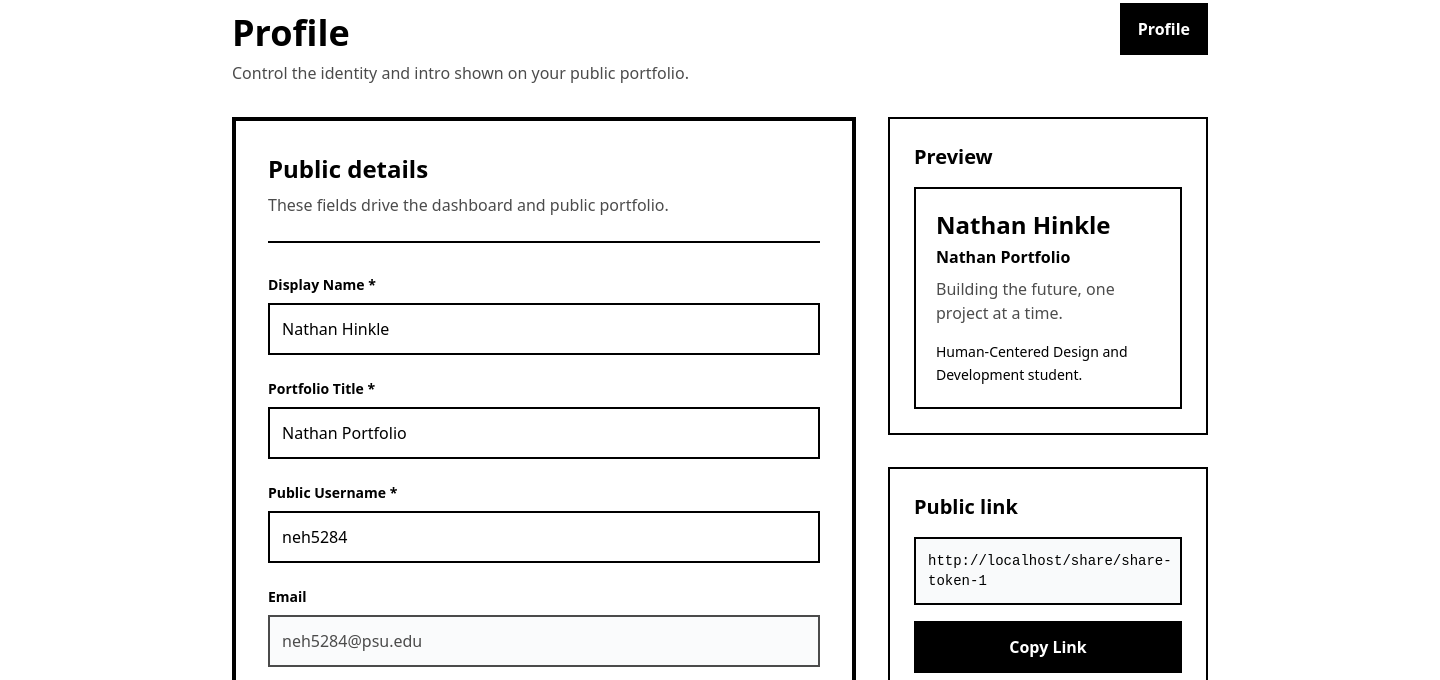
Profile major features › saves profile changes
This screenshot has width=1440, height=680.
Replace the text in the field showing "Nathan Hinkle" below "Display Name *" with "Nathan Updated" at {"x": 544, "y": 329}, box [268, 303, 820, 355]
(page scrolled)
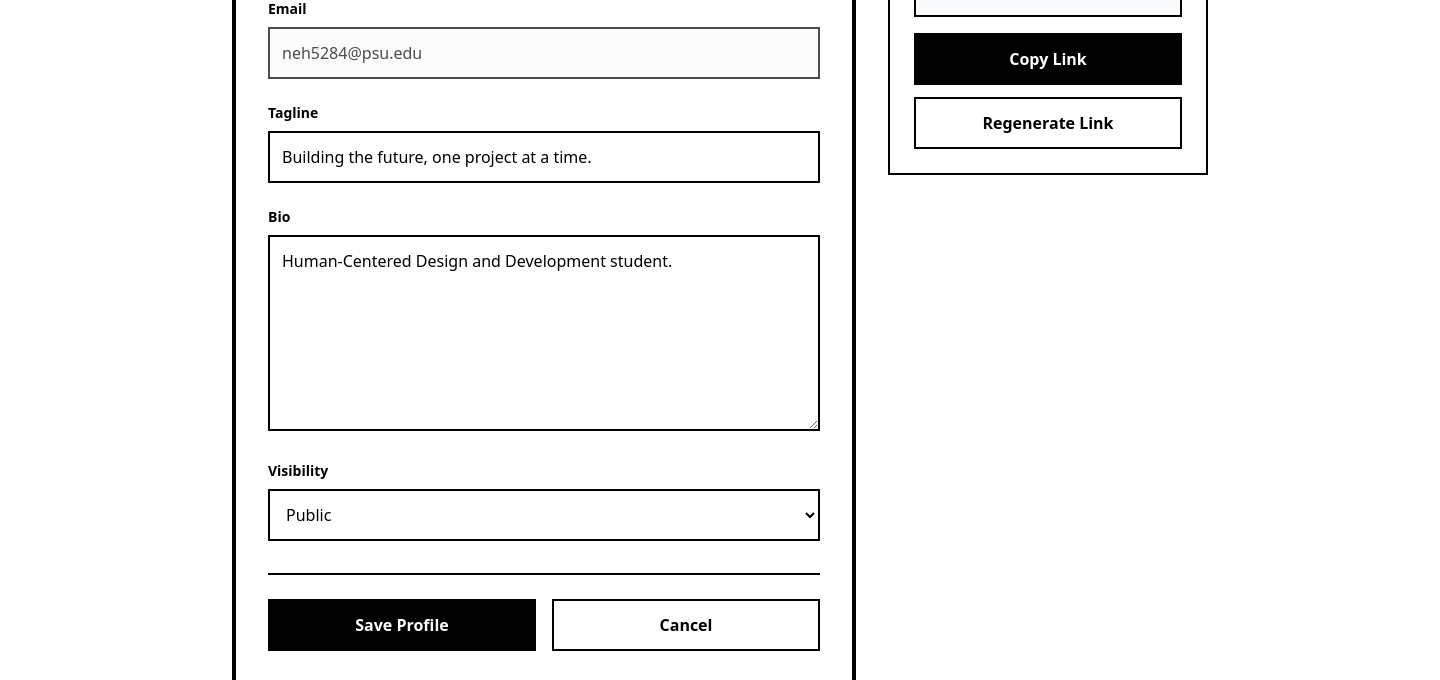
Click the button "Save Profile".
click(402, 625)  # box [268, 599, 536, 651]
(page scrolled)
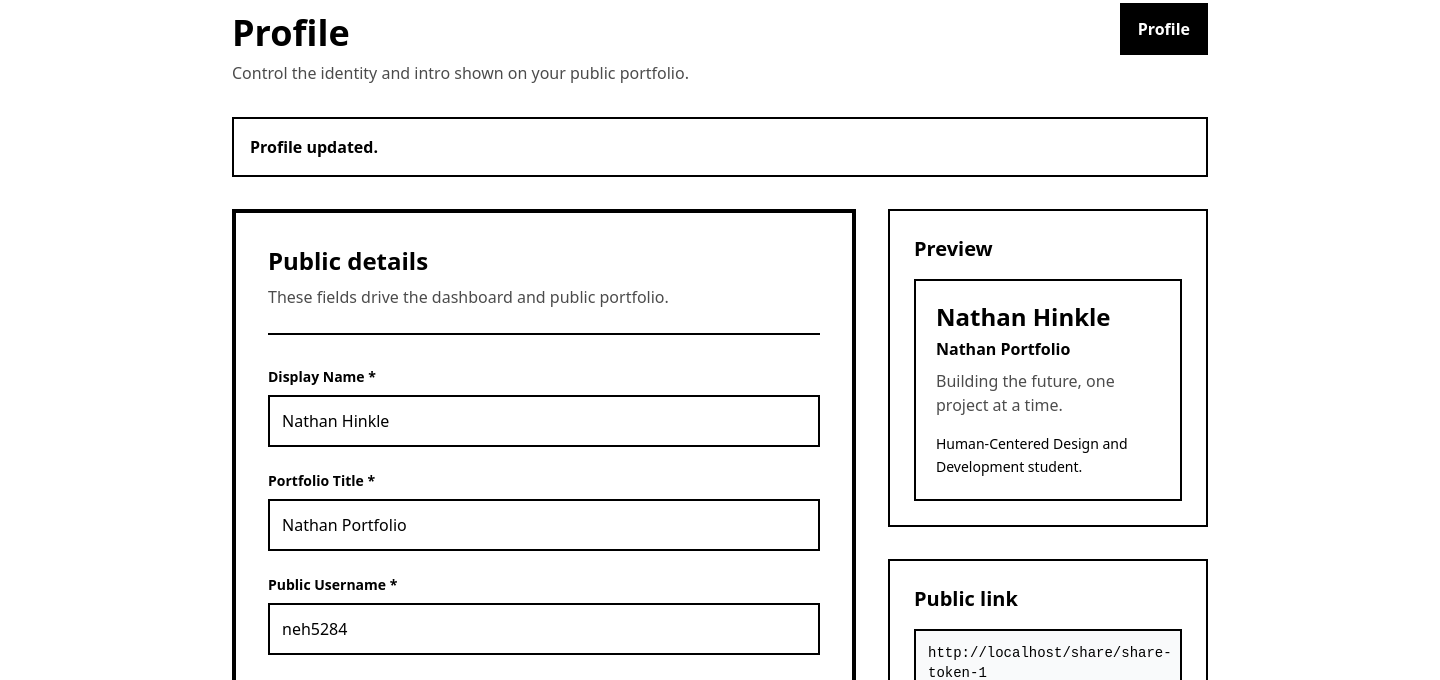
Check: the text "Profile updated." is shown, box [250, 136, 378, 158]
